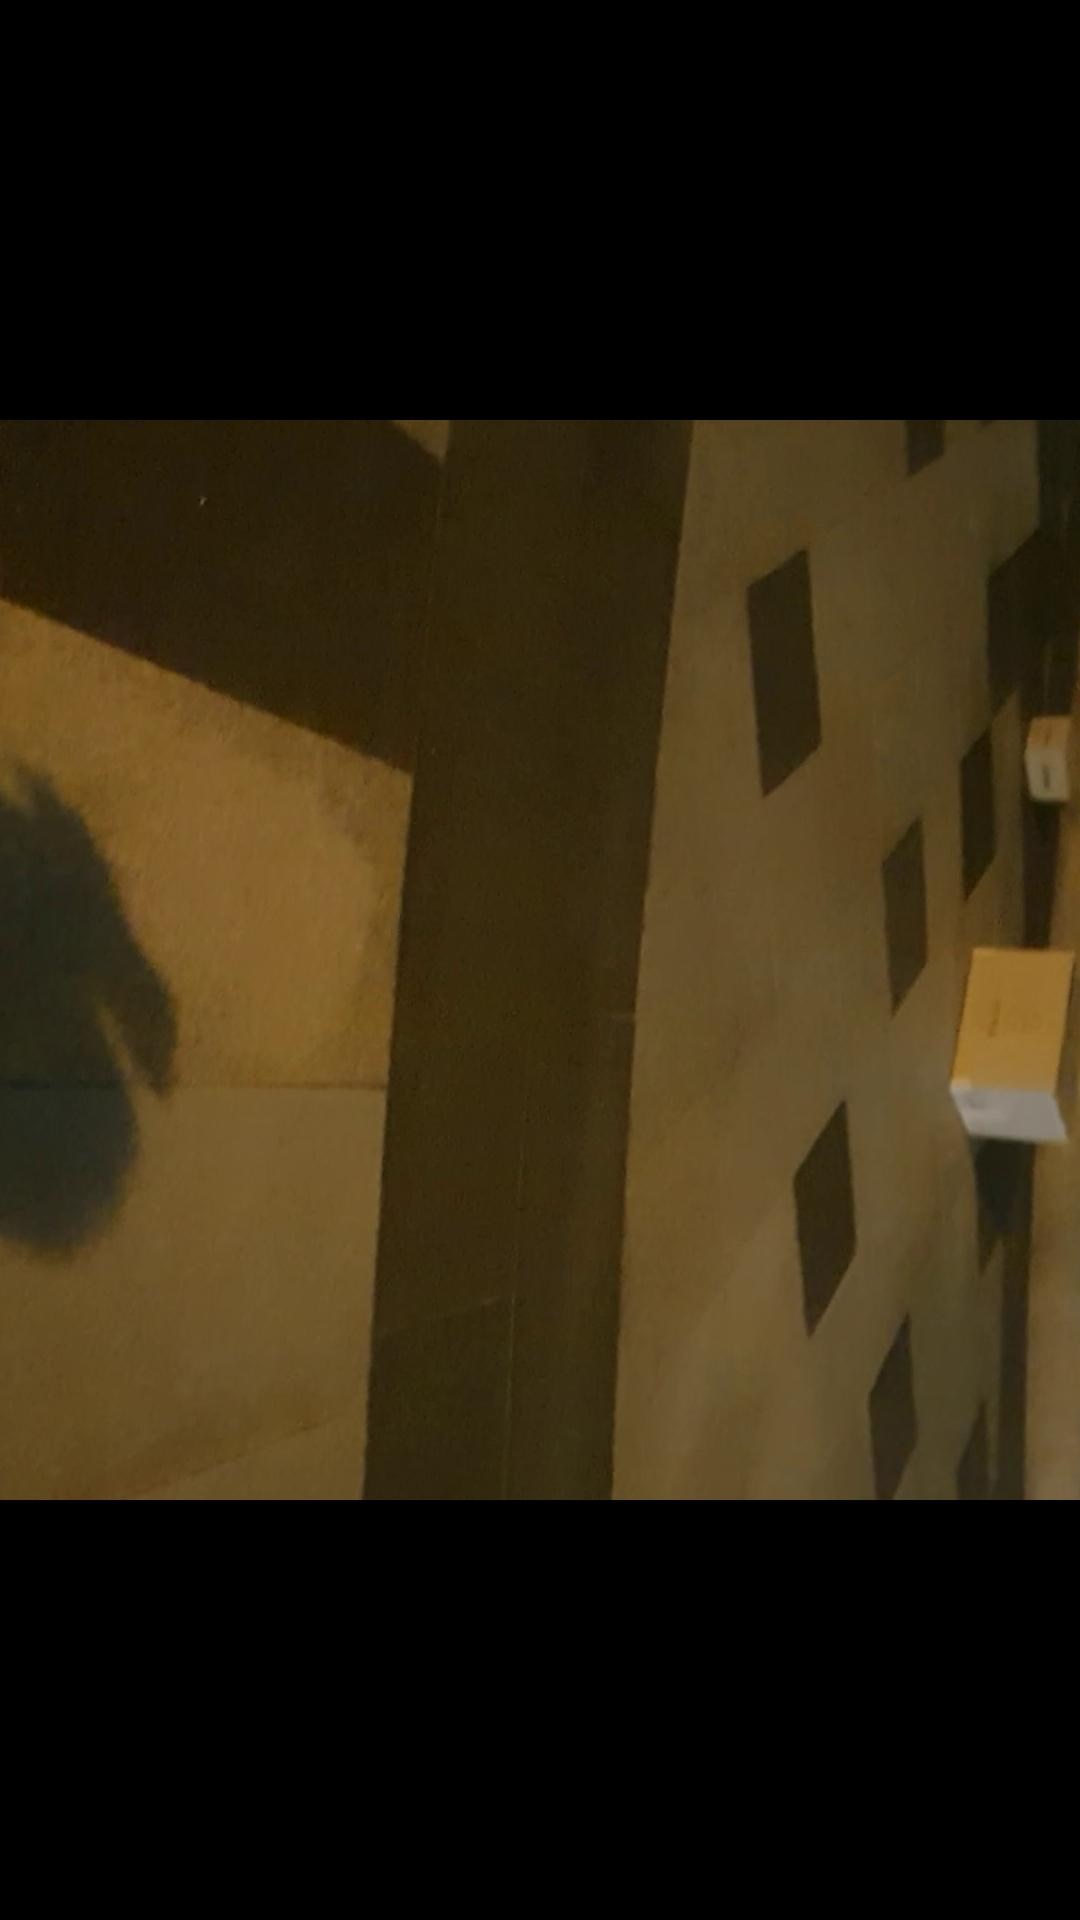Box: (952, 931, 1080, 1155), (1007, 721, 1080, 815)
